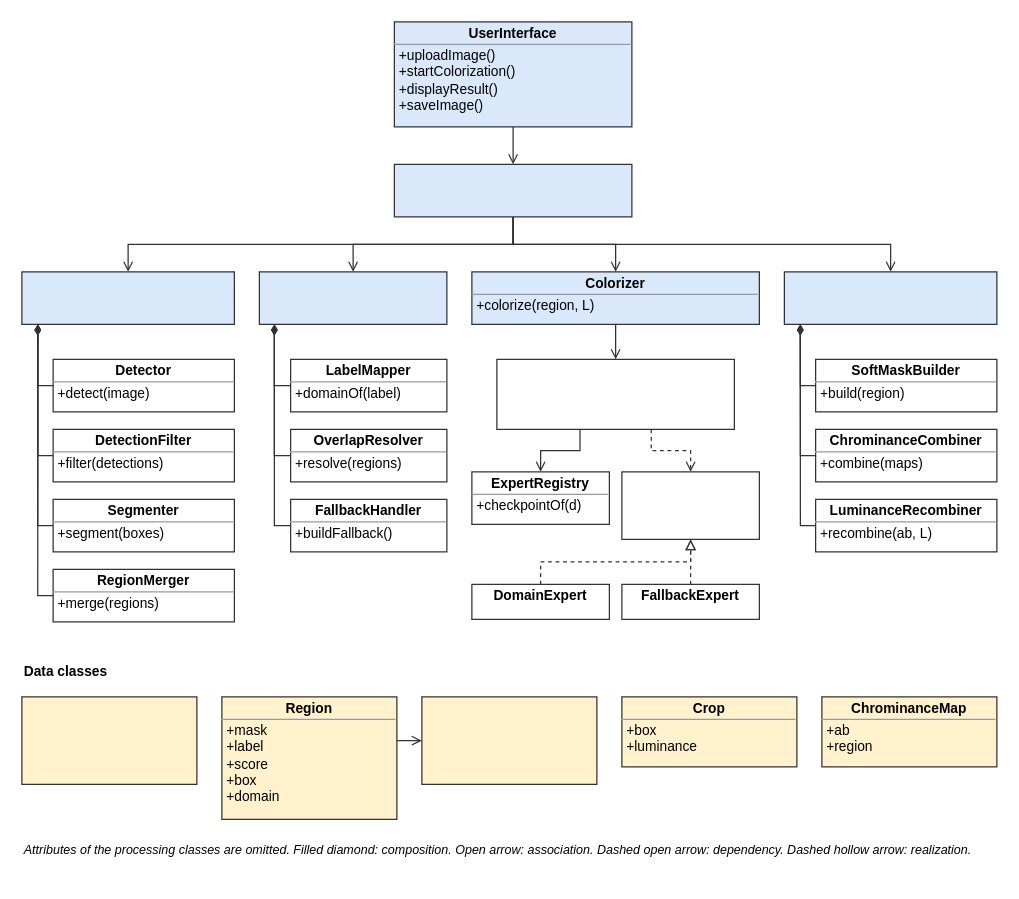
Some shapes in this 1019 by 899 pixel diagram are drawn without their labels. Here are the shapes that lost their labels. From the top down, the centre of each, then its label:
At [512,190]: "PipelineController +colorize(image)".
At [127,297]: "RegionDecomposer +decompose(image)".
At [352,297]: "Router +route(regions)".
At [890,297]: "Blender +blend(maps, L)".
At [615,393]: "ExpertManager +getExpert(domain) +release()".
At [690,505]: "<<interface>> Expert +predict(L)".
At [109,740]: "Detection +box +score +label".
At [509,740]: "Domain +name +prompts +labels".
